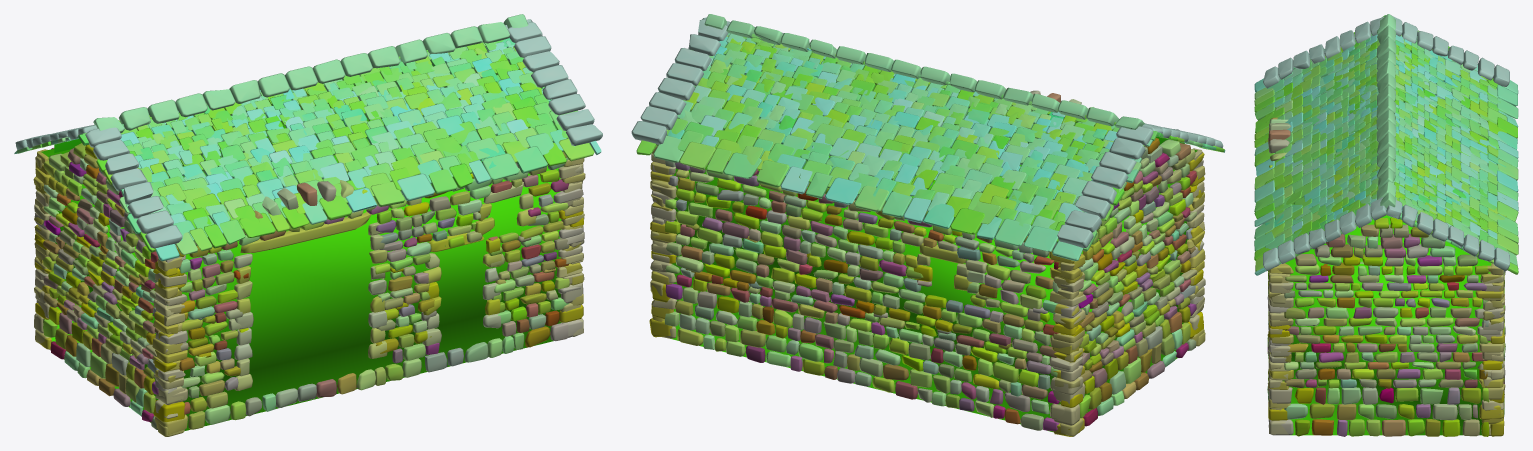
The model's file is SM_Barn_00.glb.
The picture shows the model from 3 angles, left to right: view 1: azimuth 30°, elevation 25°; view 2: azimuth 150°, elevation 25°; view 3: azimuth 270°, elevation 25°; orthographic projection. The views are drawn at different scales.
Parts seen in each view (by area): view 1: SM_Barn_00; view 2: SM_Barn_00; view 3: SM_Barn_00.
Part boxes in pixels (box(x1,y1,x2,y2)): SM_Barn_00: box(14, 14, 602, 436); SM_Barn_00: box(631, 14, 1225, 436); SM_Barn_00: box(1254, 14, 1518, 436).
Size of the model in its own units: 9.95 by 5.67 by 5.62.
